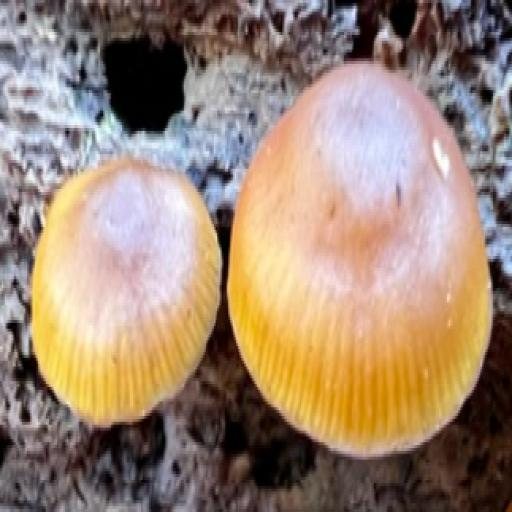Funeral Bell: (228, 55, 497, 456), (24, 153, 227, 428)
